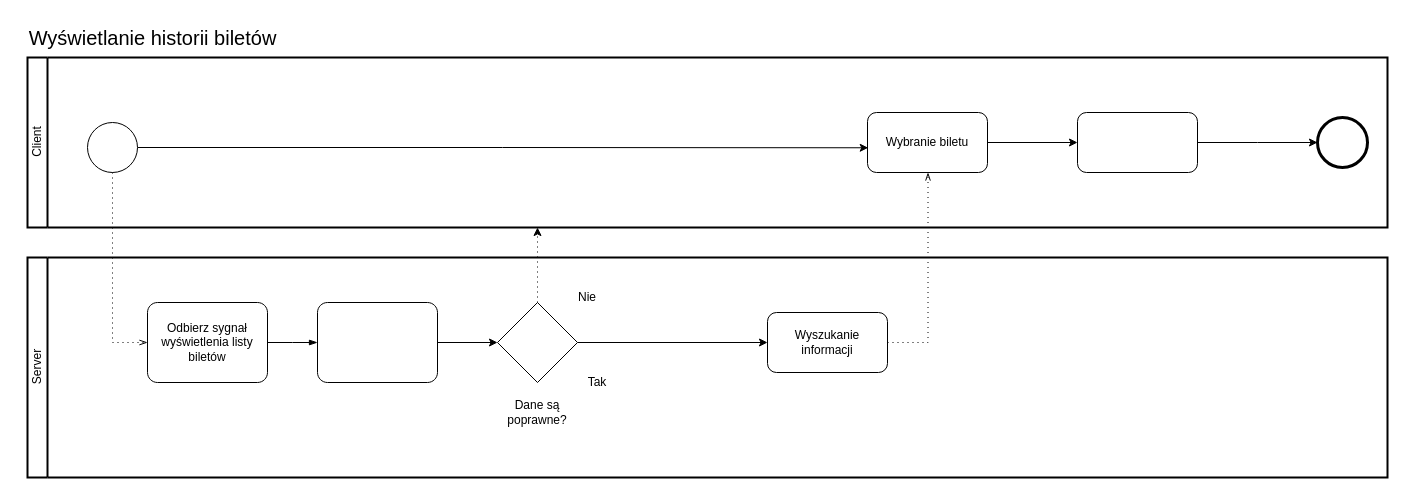
The diagram is 1405 pixels wide and 495 high, and some of its shapes have lost their labels. The centre of each missing label's shape, as x and y in pixels:
Wyświetlenie informacji o bilecie: (1137,142)
Zweryfikuj poprawność danych (oraz dostępność): (377,342)
